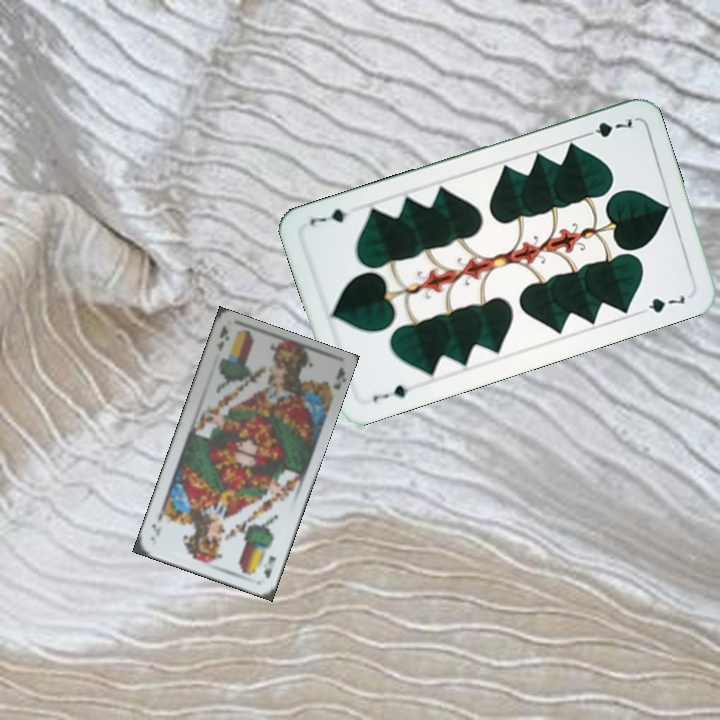EK: (212, 323, 232, 354), (259, 551, 279, 580)
G7: (578, 114, 636, 140), (368, 380, 411, 405)
